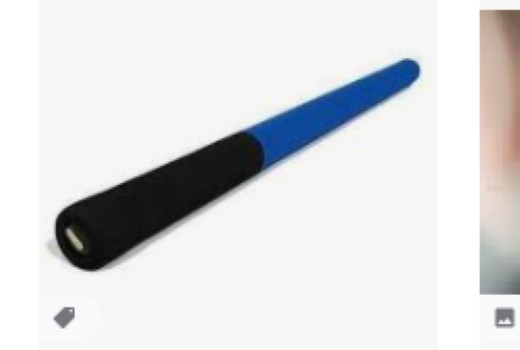baston_e: (107, 69, 408, 222)
baston_v: (44, 196, 116, 284), (392, 46, 429, 88)
